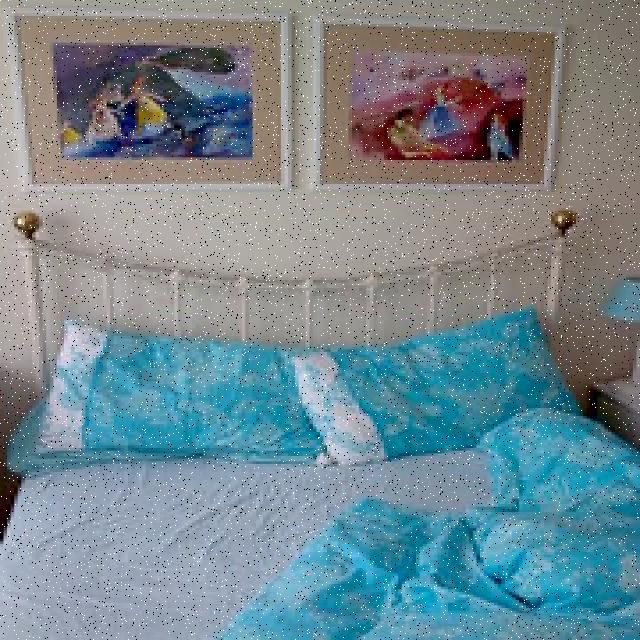bed: (4, 218, 628, 640)
